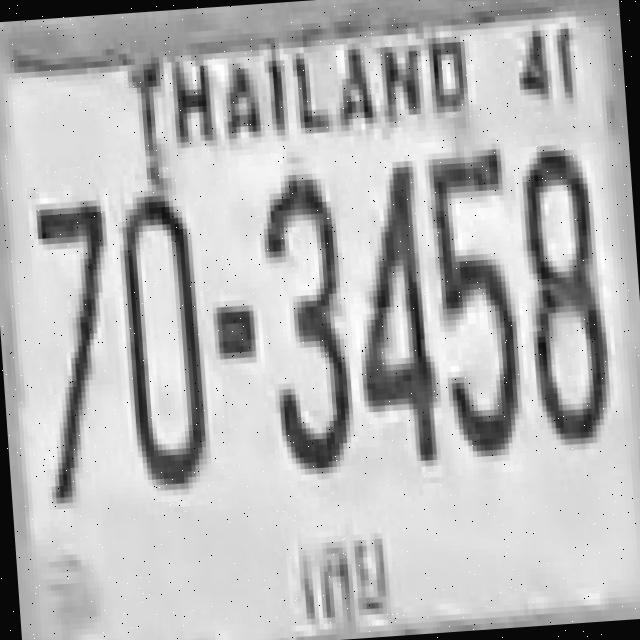0: (115, 185, 208, 483)
3: (255, 166, 352, 470)
4: (346, 157, 438, 461)
5: (425, 142, 523, 452)
7: (29, 194, 122, 492), (31, 194, 116, 428), (31, 194, 113, 388)
8: (516, 142, 608, 440)
Loei: (274, 512, 411, 638)
